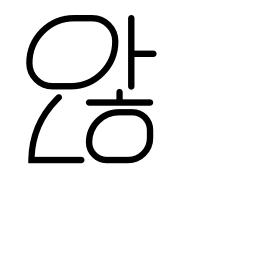Gaji: (122, 44, 145, 66)
